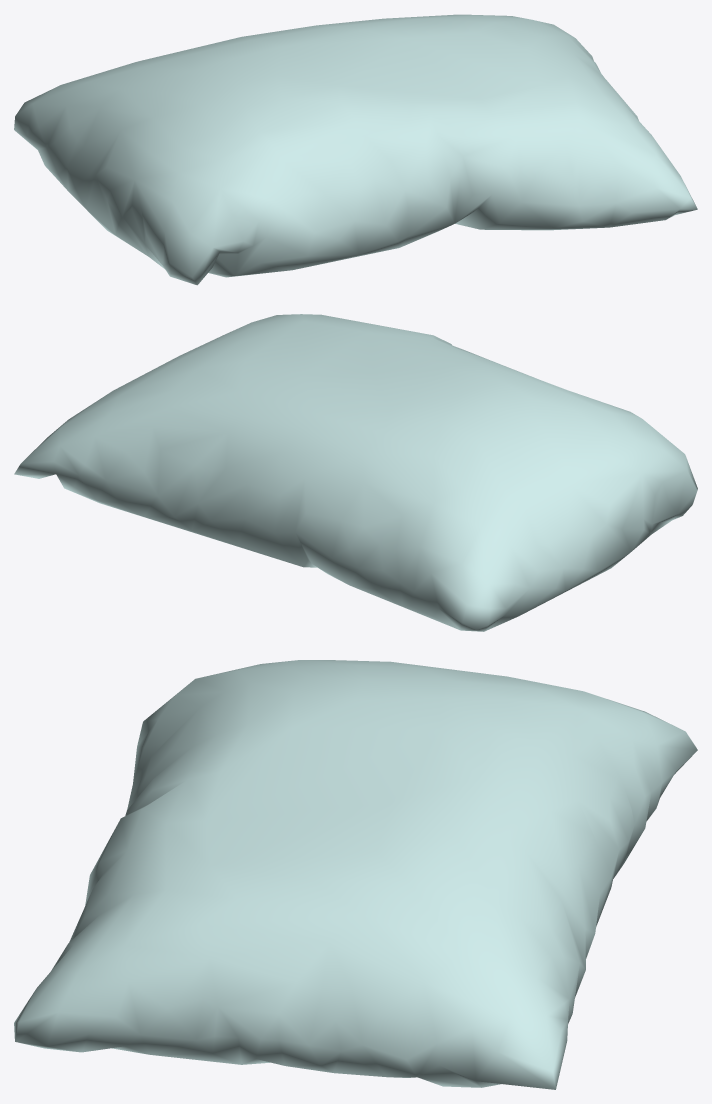
File: SM_Bed_01d.fbx
3 views of the same model, one above another, from view 1: azimuth 30°, elevation 25°; view 2: azimuth 150°, elevation 25°; view 3: azimuth 270°, elevation 25° (orthographic). The views are drawn at different scales.
Visible parts, largest first — view 1: SM_Bed_01d; view 2: SM_Bed_01d; view 3: SM_Bed_01d.
Boxes of the visible parts, left/top/right/bottom form: SM_Bed_01d: left=14, top=14, right=697, bottom=285; SM_Bed_01d: left=14, top=314, right=697, bottom=631; SM_Bed_01d: left=14, top=660, right=697, bottom=1089.
Size of the model in its own units: 68.72 by 15.52 by 57.18.
